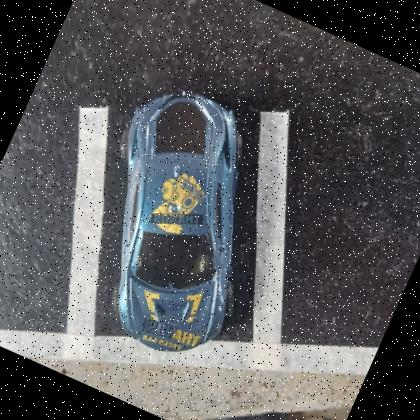Car: (116, 91, 241, 352)
